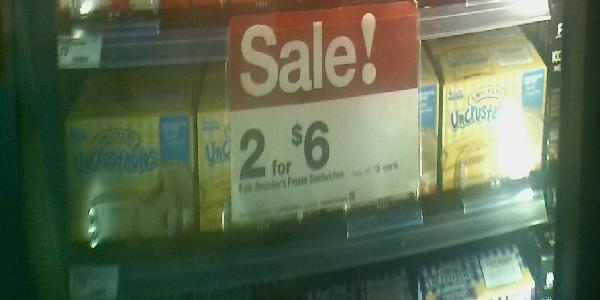icecream: (200, 65, 342, 239), (62, 98, 201, 245), (333, 63, 439, 214), (439, 56, 546, 184)
